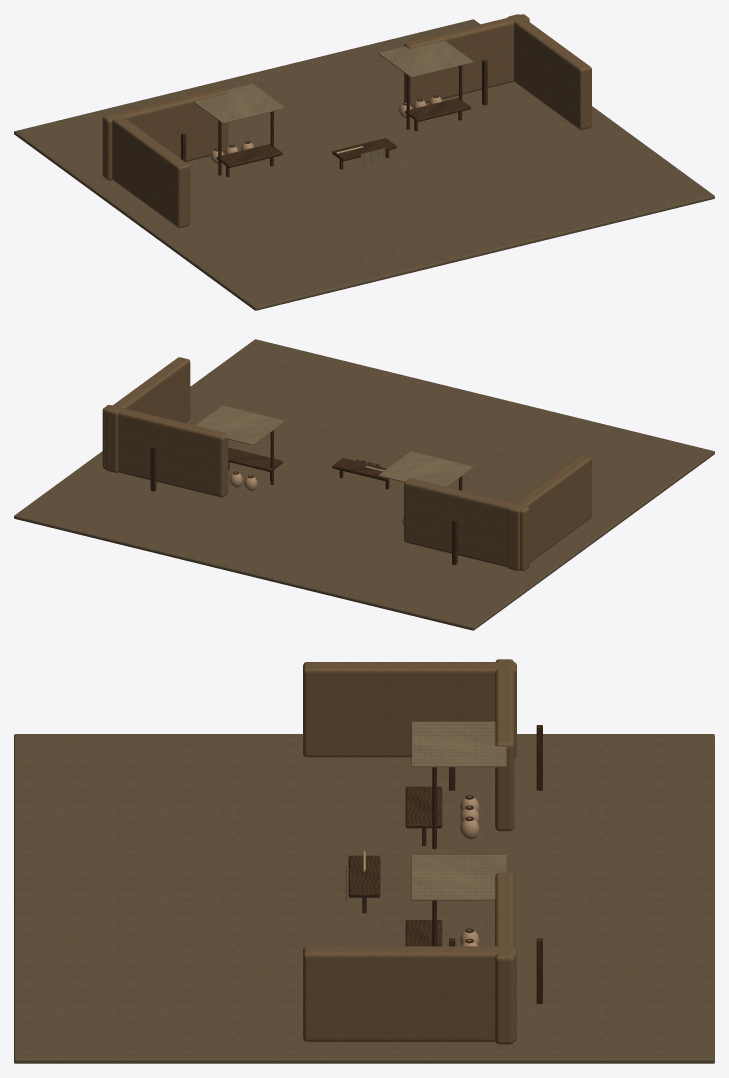
The model's file is asset-market.glb.
3 views of the same model, one above another, from view 1: azimuth 30°, elevation 25°; view 2: azimuth 150°, elevation 25°; view 3: azimuth 270°, elevation 25° (orthographic). The views are drawn at different scales.
Parts seen in each view (by area): view 1: Market courtyard, Side facade, Side facade.001, Low market wall.001, Low market wall, Canopy.001, Canopy, Trading table, Trading table.001, Goods table; view 2: Market courtyard, Low market wall.001, Low market wall, Side facade, Side facade.001, Canopy.001, Canopy, Trading table.001, Goods table; view 3: Market courtyard, Side facade.001, Side facade, Canopy, Canopy.001, Low market wall.001, Low market wall, Trading table, Goods table, Trading table.001.
Part boxes in pixels (x1,y1,x2,y2): Market courtyard: [14, 19, 714, 310]; Side facade: [106, 112, 190, 227]; Side facade.001: [508, 14, 591, 129]; Low market wall.001: [404, 14, 529, 106]; Low market wall: [102, 87, 228, 180]; Canopy.001: [378, 40, 473, 77]; Canopy: [194, 83, 285, 123]; Trading table: [216, 144, 282, 167]; Trading table.001: [405, 98, 471, 121]; Goods table: [332, 138, 396, 161]; Market courtyard: [14, 339, 714, 630]; Low market wall.001: [102, 405, 228, 497]; Low market wall: [404, 478, 529, 570]; Side facade: [507, 455, 591, 570]; Side facade.001: [105, 357, 190, 472]; Canopy.001: [195, 405, 285, 445]; Canopy: [378, 451, 473, 486]; Trading table.001: [228, 448, 282, 471]; Goods table: [332, 458, 388, 481]; Market courtyard: [14, 734, 714, 1063]; Side facade.001: [303, 946, 516, 1041]; Side facade: [303, 662, 516, 757]; Canopy: [411, 721, 506, 767]; Canopy.001: [411, 855, 506, 900]; Low market wall.001: [495, 872, 514, 1044]; Low market wall: [495, 659, 514, 831]; Trading table: [405, 786, 442, 828]; Goods table: [348, 855, 380, 897]; Trading table.001: [405, 920, 442, 946].
Bounding box in the file's own units: 22 × 2.96 × 20.
Materials: 6 (4 with a texture image).
